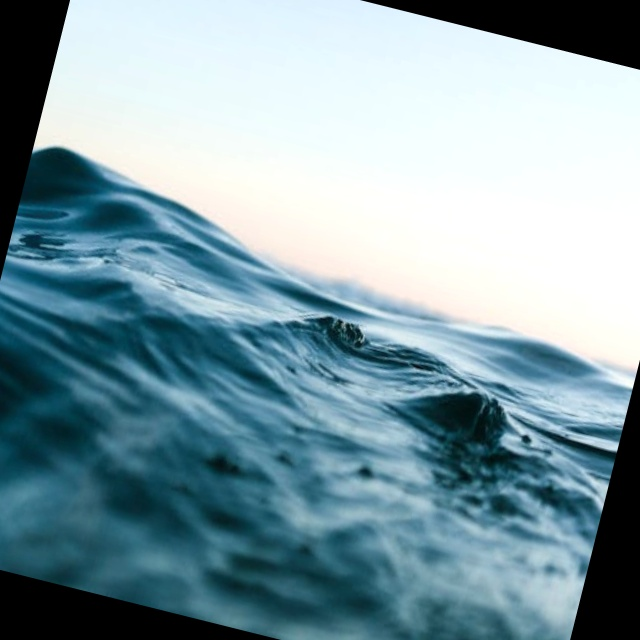clean_water: (13, 13, 627, 627)
foam_scum: (35, 0, 640, 388)
oil_spill: (573, 371, 640, 640), (368, 0, 640, 66), (0, 574, 271, 640), (0, 0, 66, 266)
